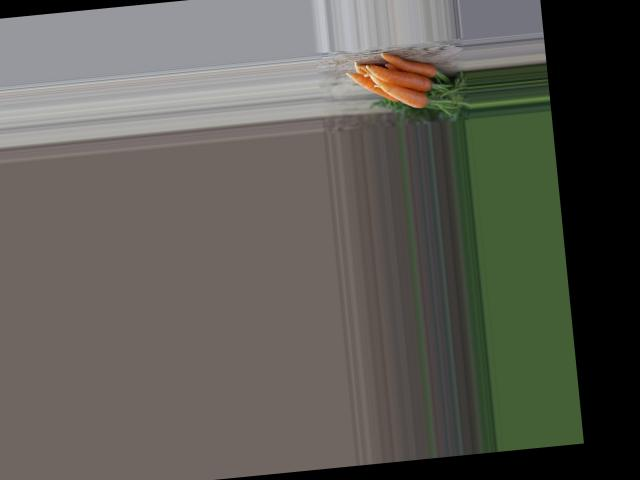carrot: (377, 51, 444, 80)
